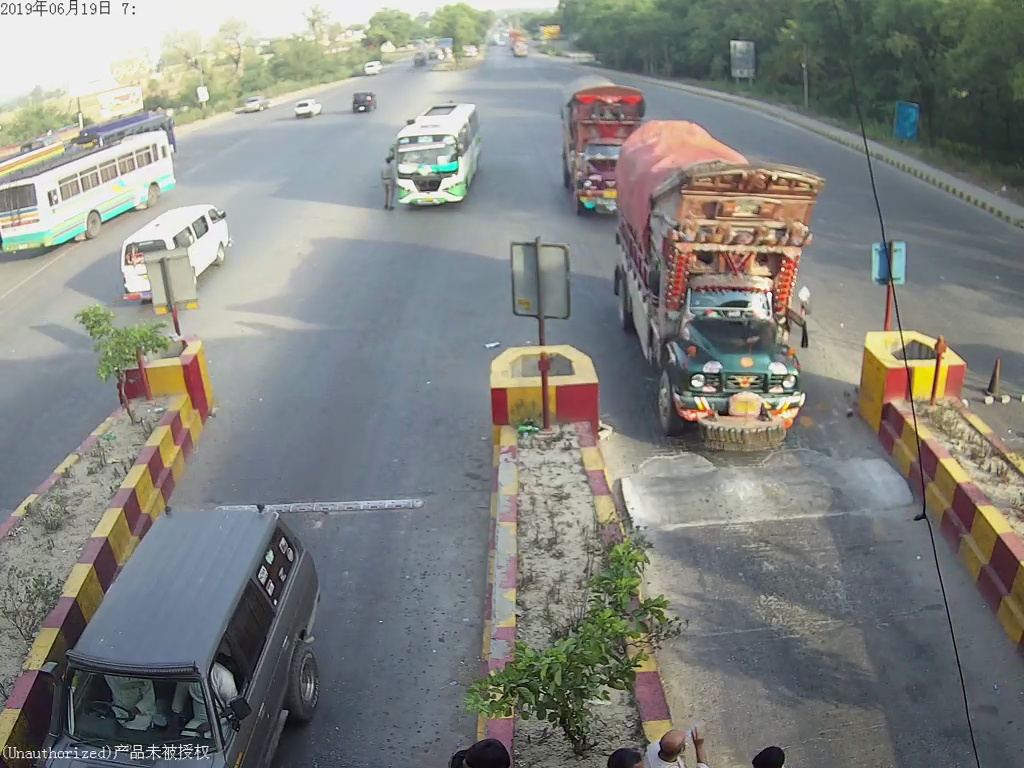Cat-3: (388, 99, 489, 211)
Cat-4: (621, 125, 823, 437), (553, 76, 647, 212)
